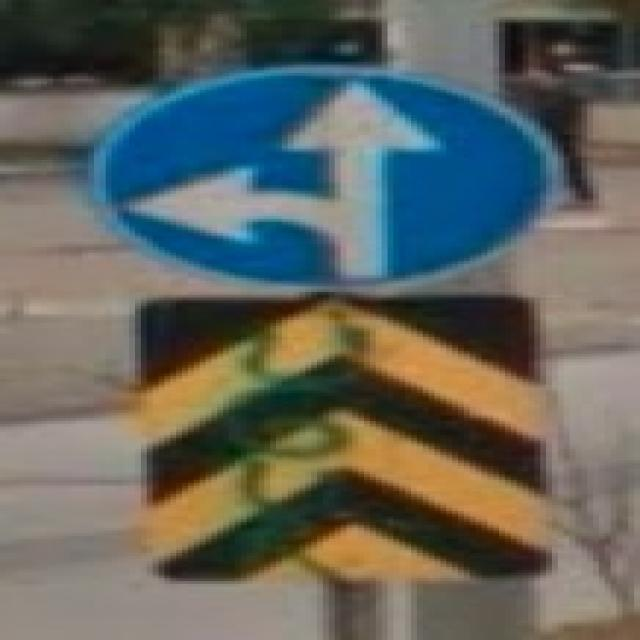Straight or Left: (86, 68, 568, 293)
